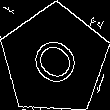O_SE: (22, 28, 87, 93)
